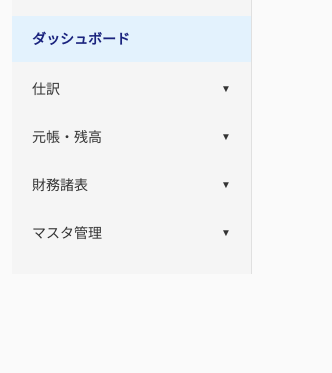
Test case: Sidebar › submenu behavior › expands and collapses submenu on click
Expected: the text "仕訳入力" is not shown
Click the text "仕訳" at (46, 89), box [32,81,60,97]
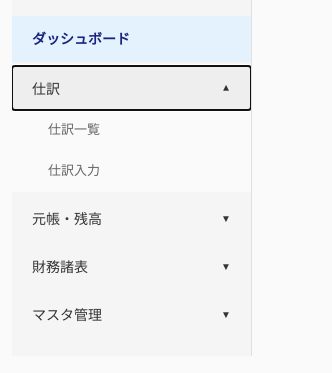
Expected: the link "仕訳入力" is shown, [48,163,100,178]
Click the text "仕訳" at (46, 89), box [32,81,60,97]
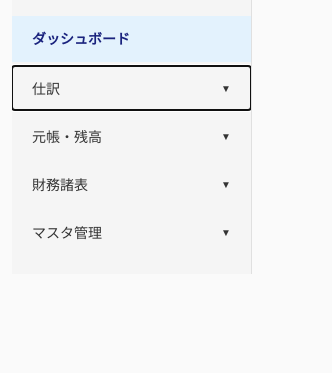
Expected: the link "仕訳入力" is gone
